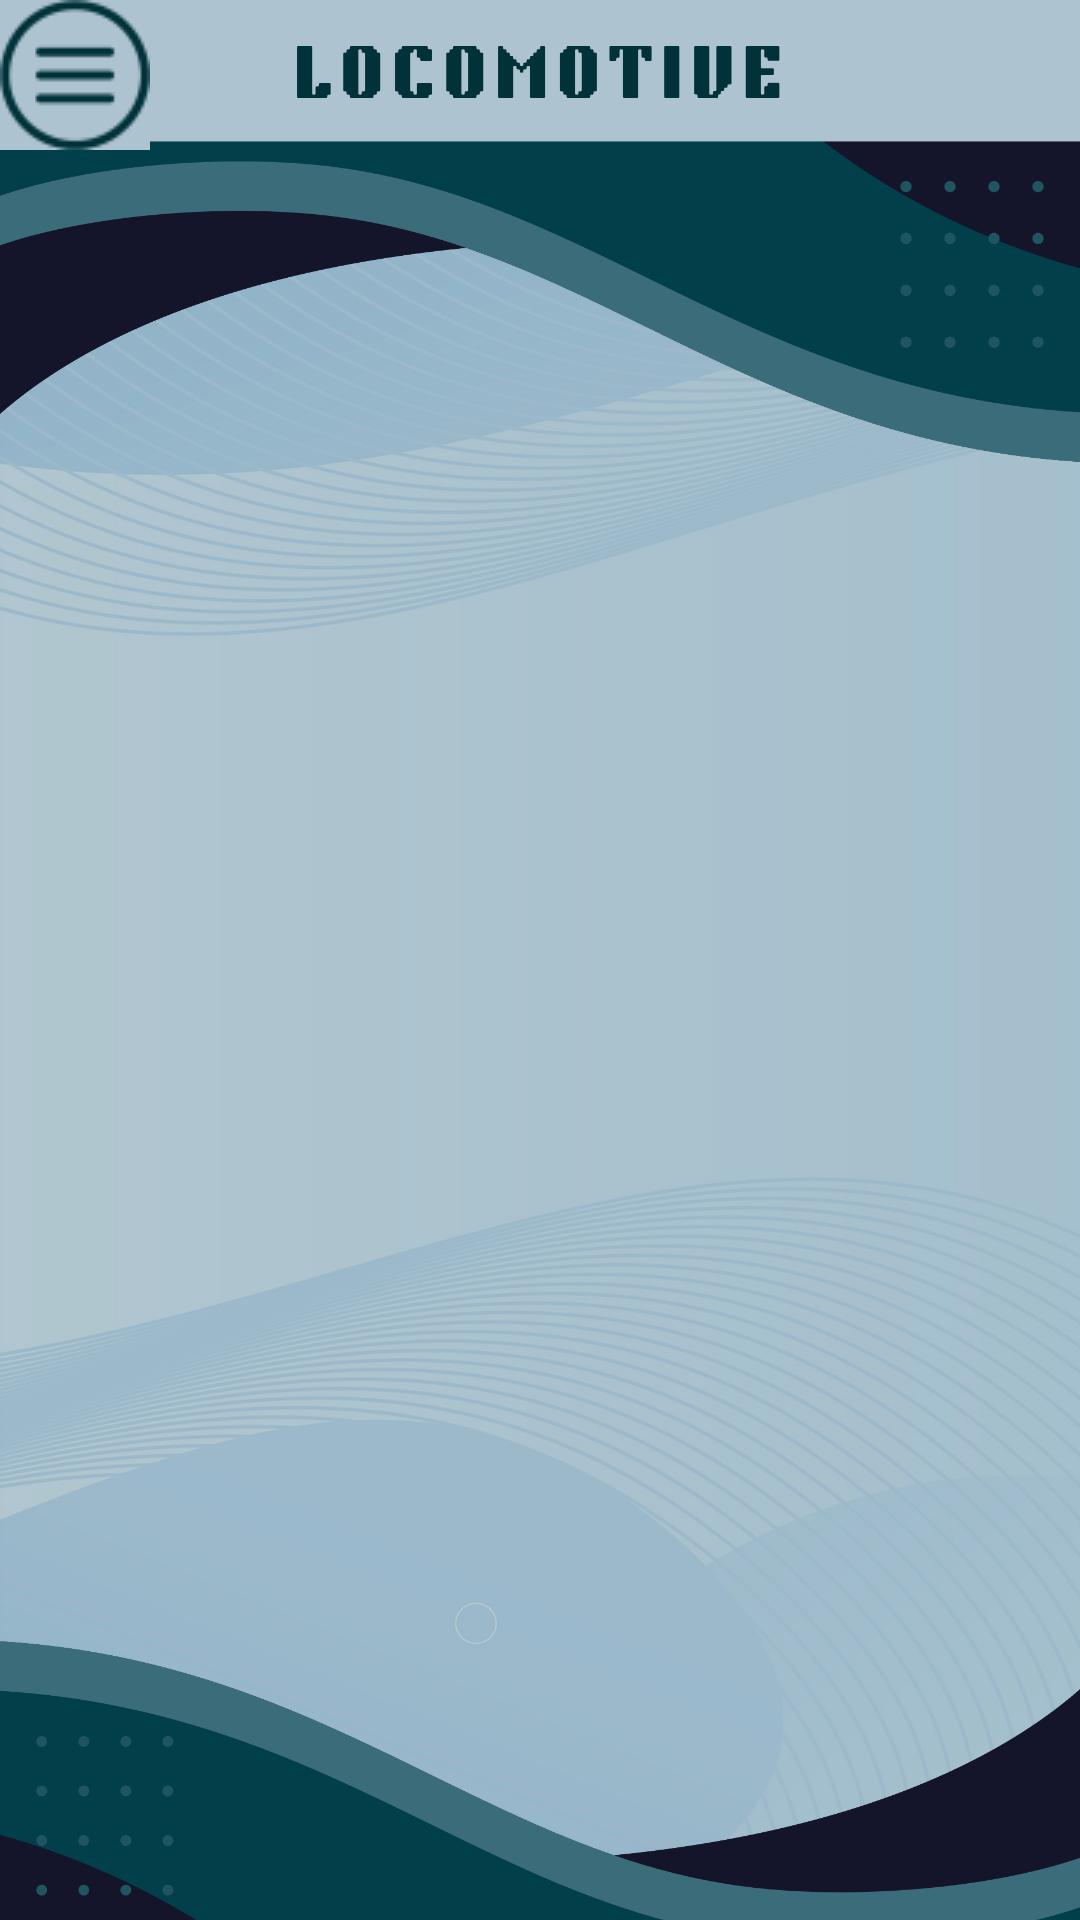

Icons on this 1080w x 1920h Android screen, each with the point to tap as point (x, y):
hamburger: point (75, 75)
